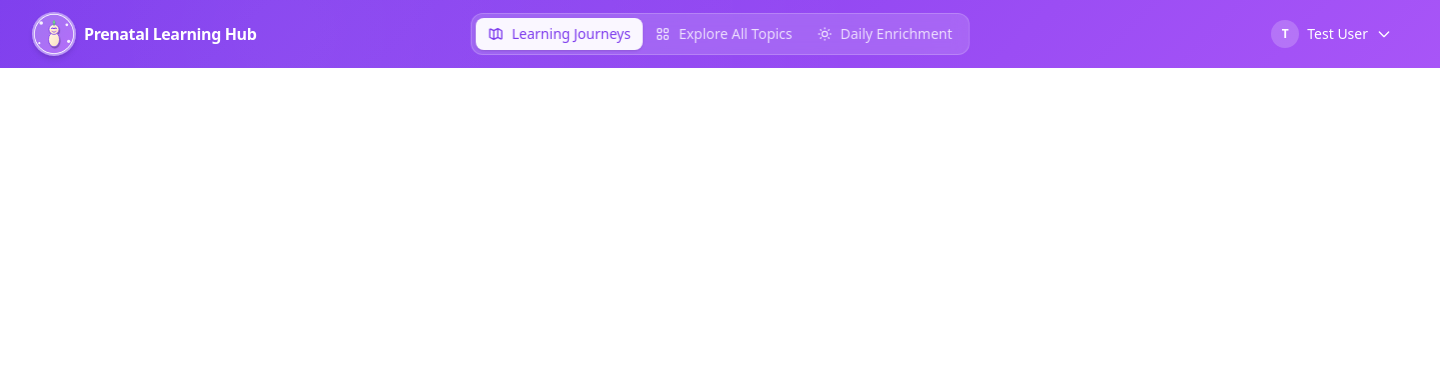
Header › Due date in user dropdown › should show due date section in user dropdown when authenticated (Requirements: 17.4)
This screenshot has width=1440, height=367.
Note: Open user menu
Click the button with aria-label "User menu" at (1332, 34), box [1255, 12, 1408, 56]
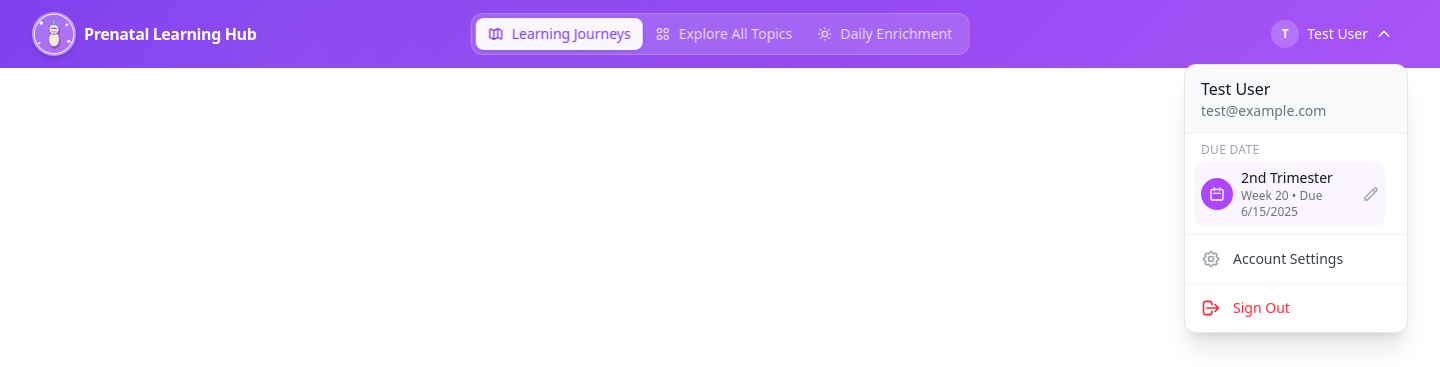
Now the text "Due Date" is shown, box [1201, 141, 1259, 158]
